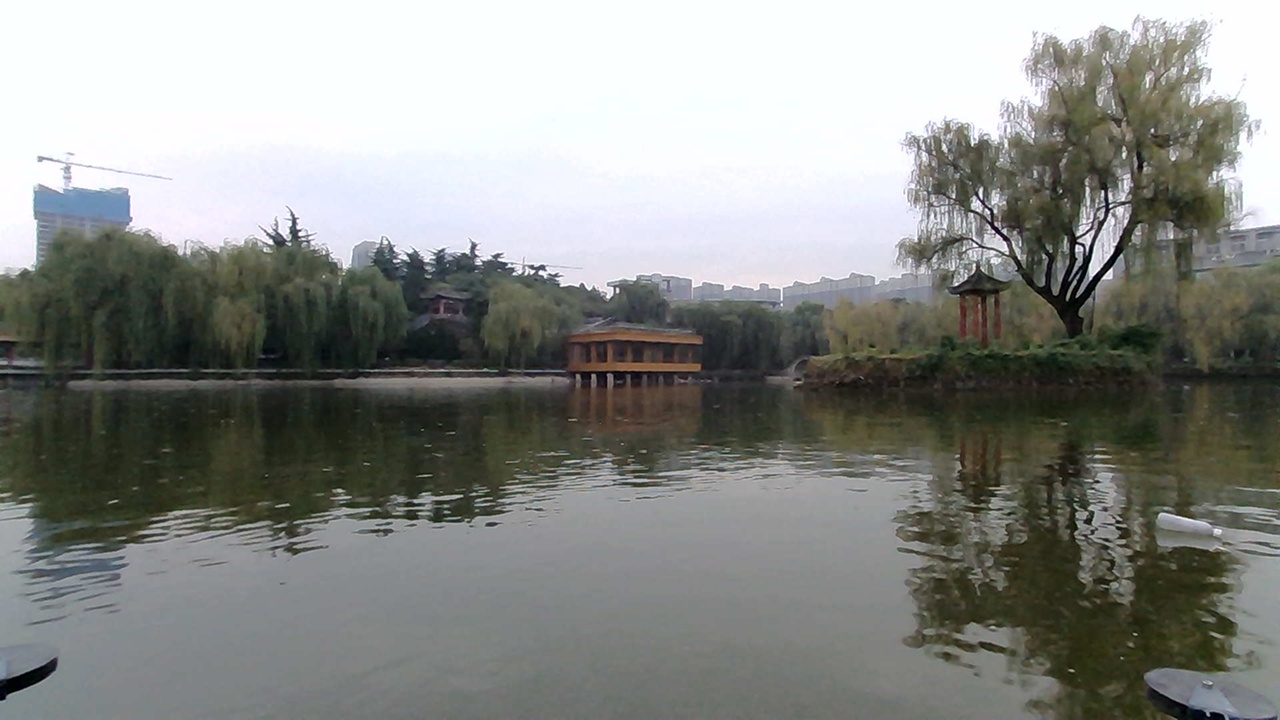bottle: (1166, 510, 1230, 543)
